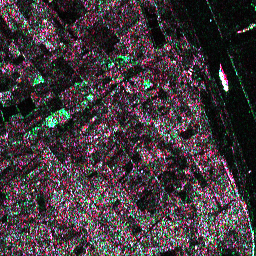ship: (216, 68, 231, 94)
